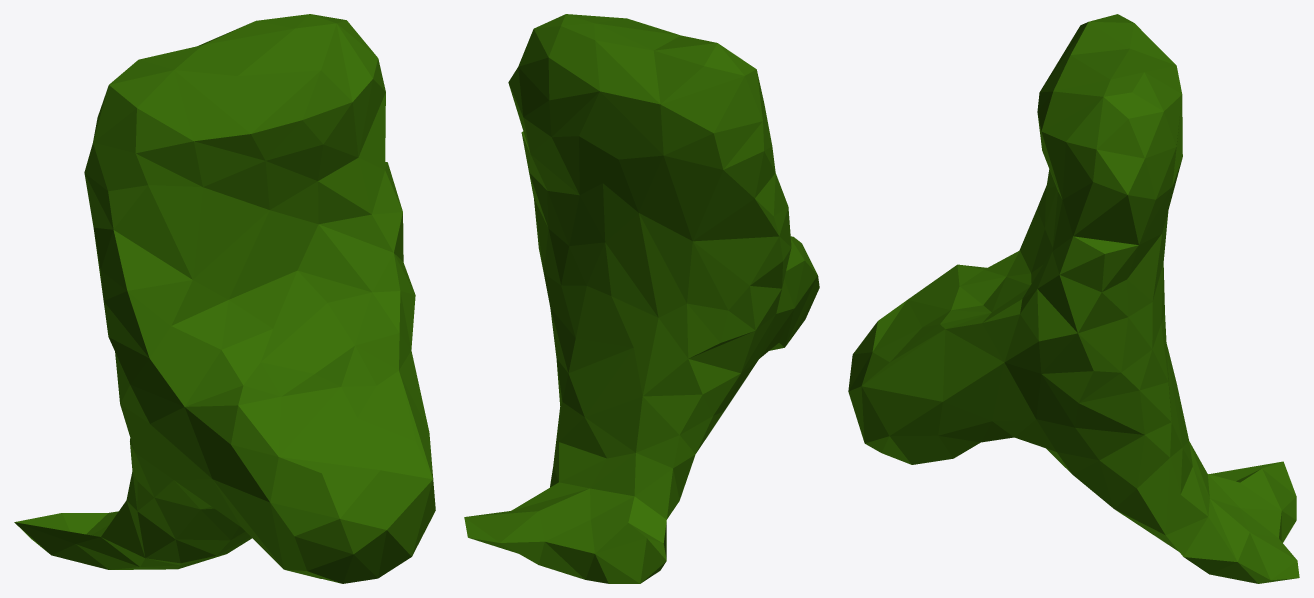
File: 41-CM-central medial thalamic nucleus-('0.2471', '0.4980', '0.0000').obj
3 views of the same model, side by side, from view 1: azimuth 30°, elevation 25°; view 2: azimuth 150°, elevation 25°; view 3: azimuth 270°, elevation 25° (orthographic). The views are drawn at different scales.
Bounding box in the file's own units: 24.85 × 45.34 × 36.78.
